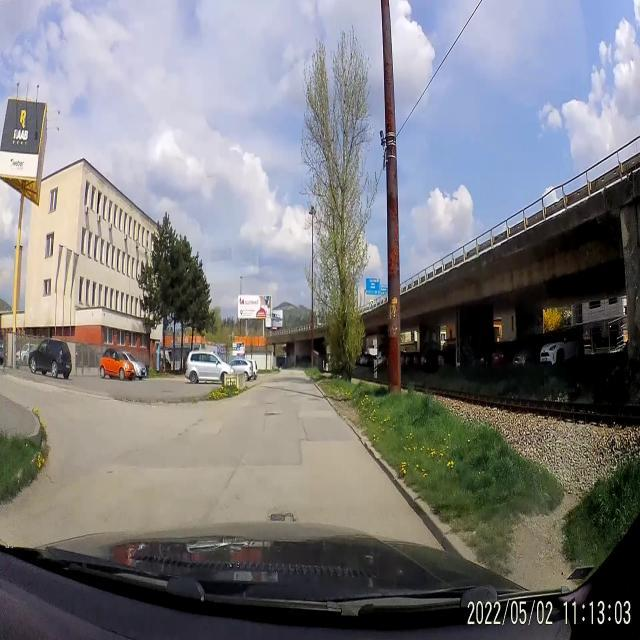Pothole: (264, 492, 305, 534), (172, 414, 207, 444), (260, 411, 286, 418), (306, 394, 324, 404), (262, 401, 276, 406)
